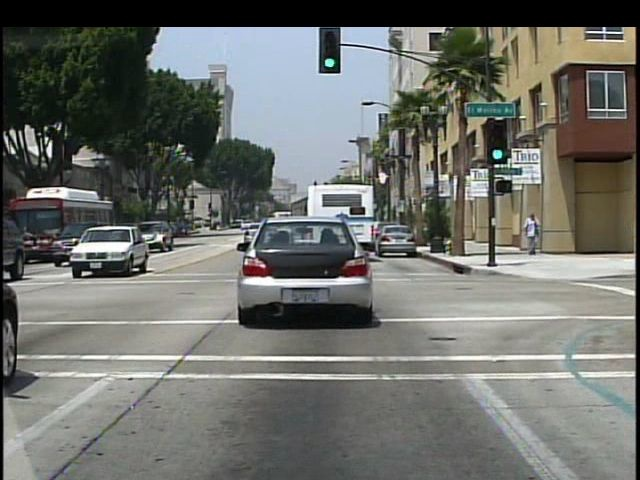person: (523, 213, 543, 257)
